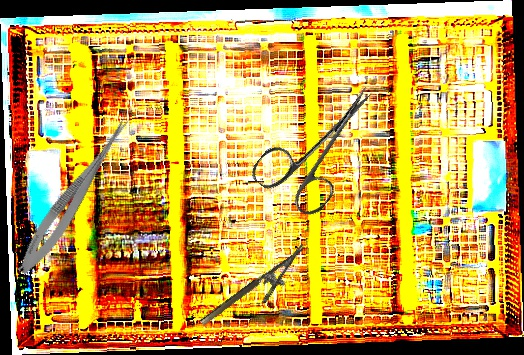Iris Scissors: (247, 63, 399, 225)
Micro Scissor: (11, 108, 137, 280)
Needle Holder: (198, 243, 318, 341)
